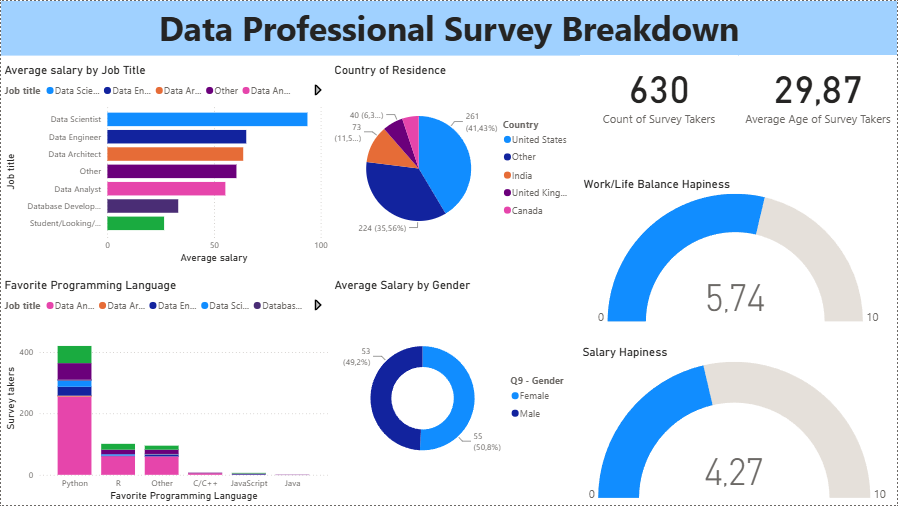

The page's visual inventory and layout, read from the dashboard file:
{"tool":"powerbi","page":{"name":"Data Professional Survey Breakdown","canvas":[1280,720],"ordinal":0},"visuals":[{"type":"textbox","box":[0,0,1280,78.1],"z":0},{"type":"card","fields":{"Values":["Count(Data Professional Survey.Unique ID)"]},"box":[826.8,77.3,225.5,105.2],"z":1000},{"type":"card","fields":{"Values":["Avg(Data Professional Survey.Q10 - Current Age)"]},"box":[1054.5,77.3,225.5,105.2],"z":2000},{"type":"barChart","title":"Average salary by Job Title","fields":{"Category":["Data Professional Survey.Q1 - Which Title Best Fits your Current Role?.1"],"Y":["Avg(Data Professional Survey.Average salary)"],"Series":["Data Professional Survey.Q1 - Which Title Best Fits your Current Role?.1"]},"box":[0,88.6,471.7,291.5],"z":3000},{"type":"columnChart","title":"Favorite Programming Language","fields":{"Category":["Data Professional Survey.Q5 - Favorite Programming Language.1"],"Y":["CountNonNull(Data Professional Survey.Unique ID)"],"Series":["Data Professional Survey.Q1 - Which Title Best Fits your Current Role?.1"]},"box":[0,395.1,471.7,324.5],"z":4000},{"type":"pieChart","title":"Country of Residence","fields":{"Category":["Data Professional Survey.Q11 - Which Country do you live in?.1"],"Y":["CountNonNull(Data Professional Survey.Q11 - Which Country do you live in?.1)"]},"box":[471.7,88.6,354.6,282.4],"z":5000},{"type":"gauge","title":"Work/Life Balance Hapiness","fields":{"Y":["Avg(Data Professional Survey.Q6 - How Happy are you in your Current Position with the following? (Work/Life Balance))"],"MinValue":["Min(Data Professional Survey.Q6 - How Happy are you in your Current Position with the following? (Work/Life Balance))"],"MaxValue":["Max(Data Professional Survey.Q6 - How Happy are you in your Current Position with the following? (Work/Life Balance))1"]},"box":[827.8,250.9,452.2,216.3],"z":6000},{"type":"gauge","title":"Salary Hapiness","fields":{"Y":["Avg(Data Professional Survey.Q6 - How Happy are you in your Current Position with the following? (Salary))"],"MinValue":["Min(Data Professional Survey.Q6 - How Happy are you in your Current Position with the following? (Salary))"],"MaxValue":["Max(Data Professional Survey.Q6 - How Happy are you in your Current Position with the following? (Salary))"]},"box":[826.3,491.3,452.2,228.4],"z":7000},{"type":"donutChart","title":"Average Salary by Gender","fields":{"Category":["Data Professional Survey.Q9 - Male/Female?"],"Y":["Avg(Data Professional Survey.Average salary)"]},"box":[471.7,395.1,357.6,324.5],"z":8000}]}

Visuals, with their boxes in screenshot pixels (x1, y1, x2, y2), scaled from the page's 1280x720 canvas onto the 898x506 screenshot:
textbox: detection(0, 0, 897, 55)
card - Count(Data Professional Survey.Unique ID): detection(580, 54, 738, 128)
card - Avg(Data Professional Survey.Q10 - Current Age): detection(740, 54, 897, 128)
"Average salary by Job Title" barChart: detection(0, 62, 331, 267)
"Favorite Programming Language" columnChart: detection(0, 278, 331, 505)
"Country of Residence" pieChart: detection(331, 62, 580, 261)
"Work/Life Balance Hapiness" gauge: detection(581, 176, 897, 328)
"Salary Hapiness" gauge: detection(580, 345, 897, 505)
"Average Salary by Gender" donutChart: detection(331, 278, 582, 505)
